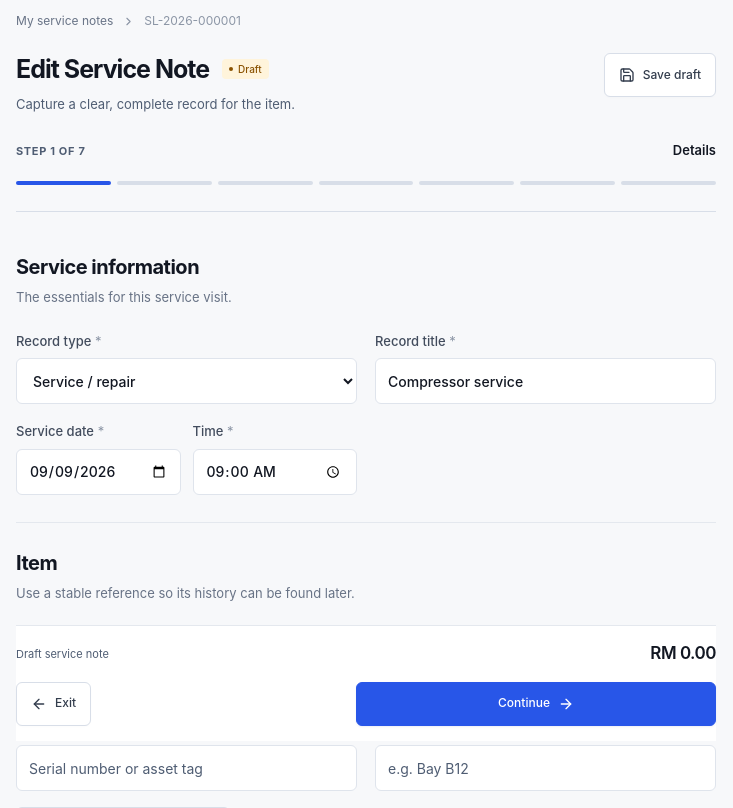
Scenario: service note editing › blocks customer handoff until the technician requirements are complete
This screenshot has width=733, height=808.
Click the button named "Go to Review" at (669, 183), box [621,171,716,195]
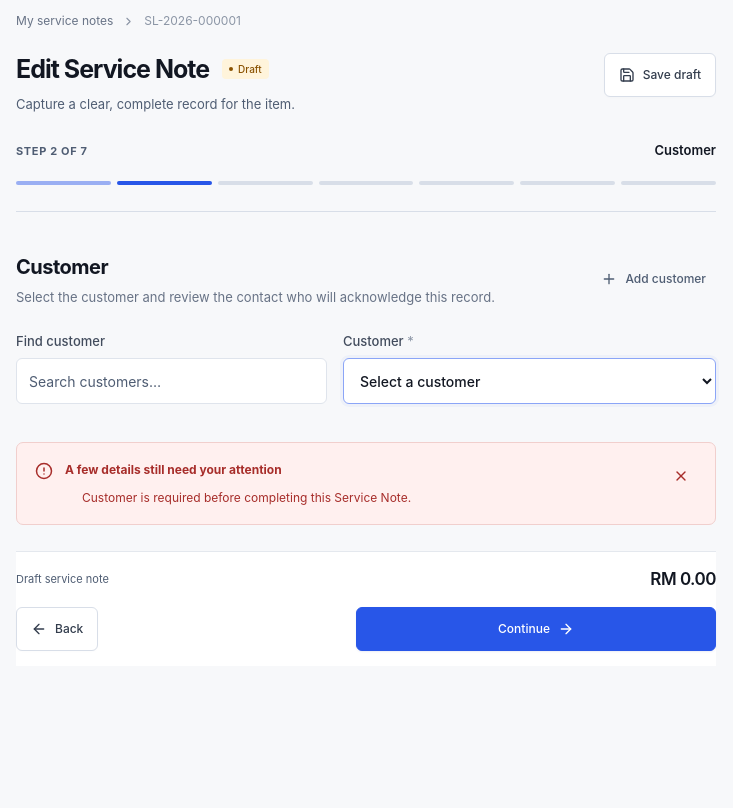
Expected: the heading "Customer" is shown, [16,255,108,279]
Expected: the list item "Customer is required before completing this Service Note." is shown, [82,490,411,505]
